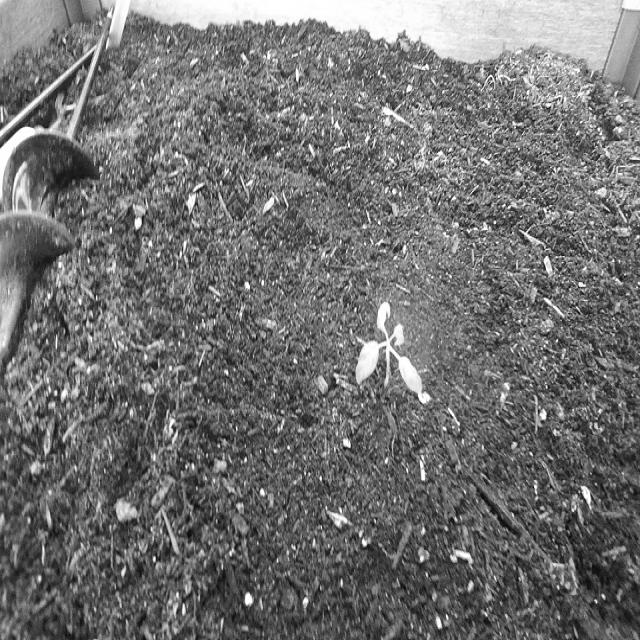Healthy: (353, 299, 427, 404)
